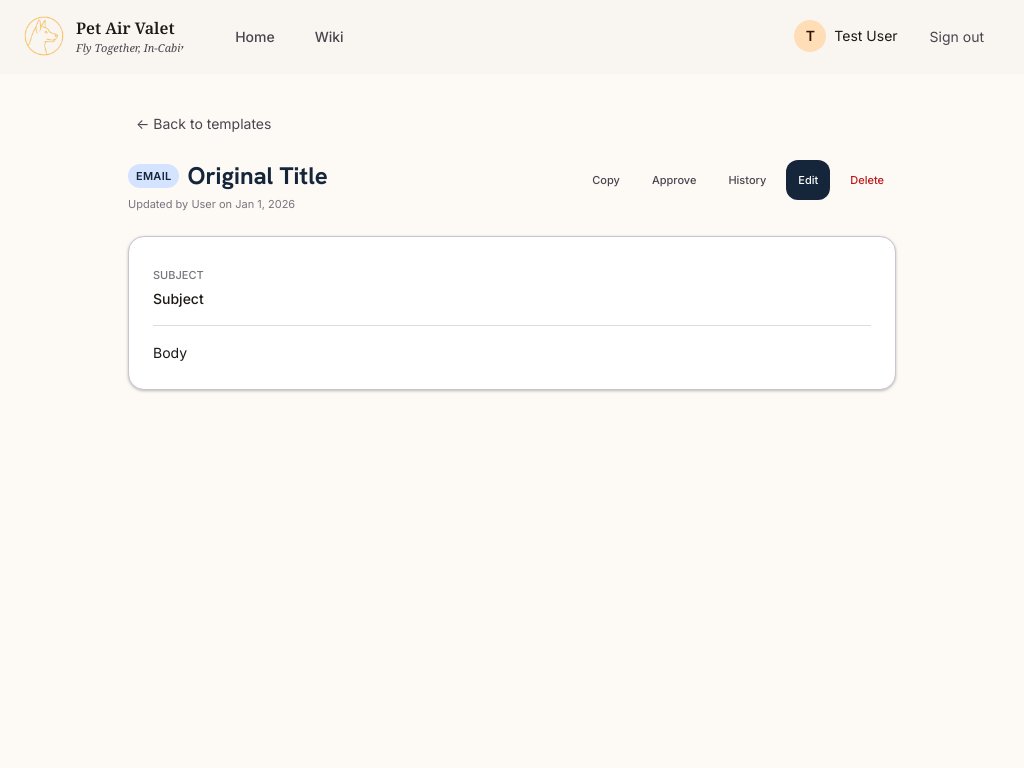
Scenario: TemplateEditPage › cancels edit mode and restores original template values
Click the button "Edit" at (808, 180), box [786, 160, 830, 200]
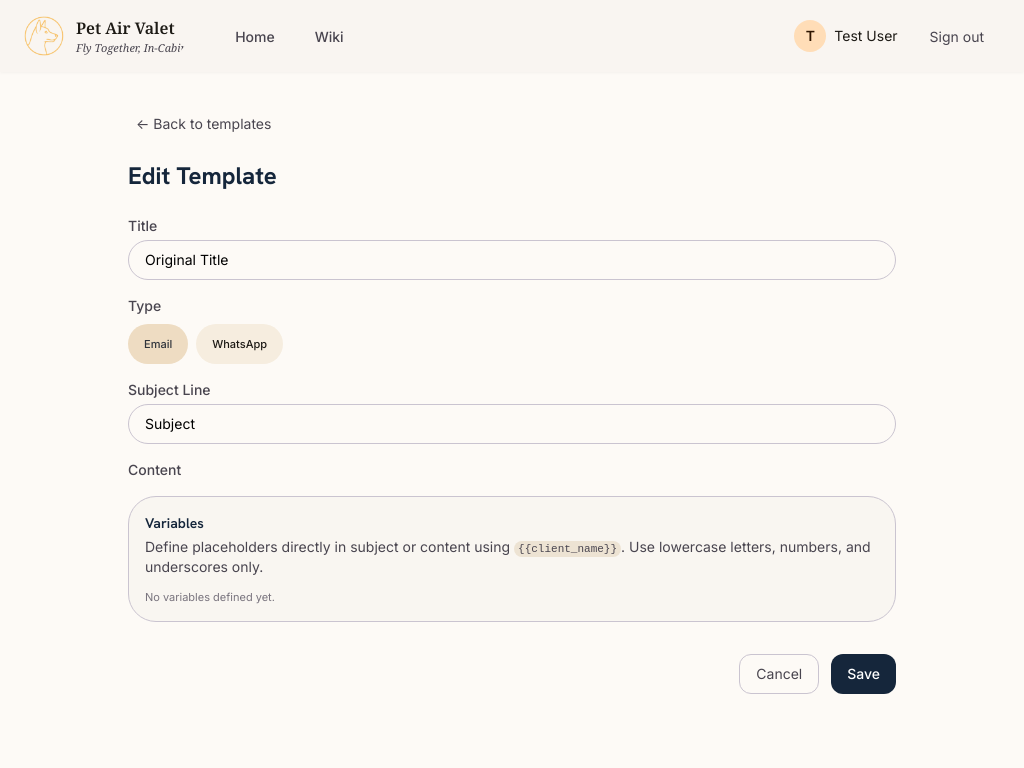
Replace the text in the field labelled "Title" with "Temporary Title" at (512, 260), box [128, 240, 896, 280]
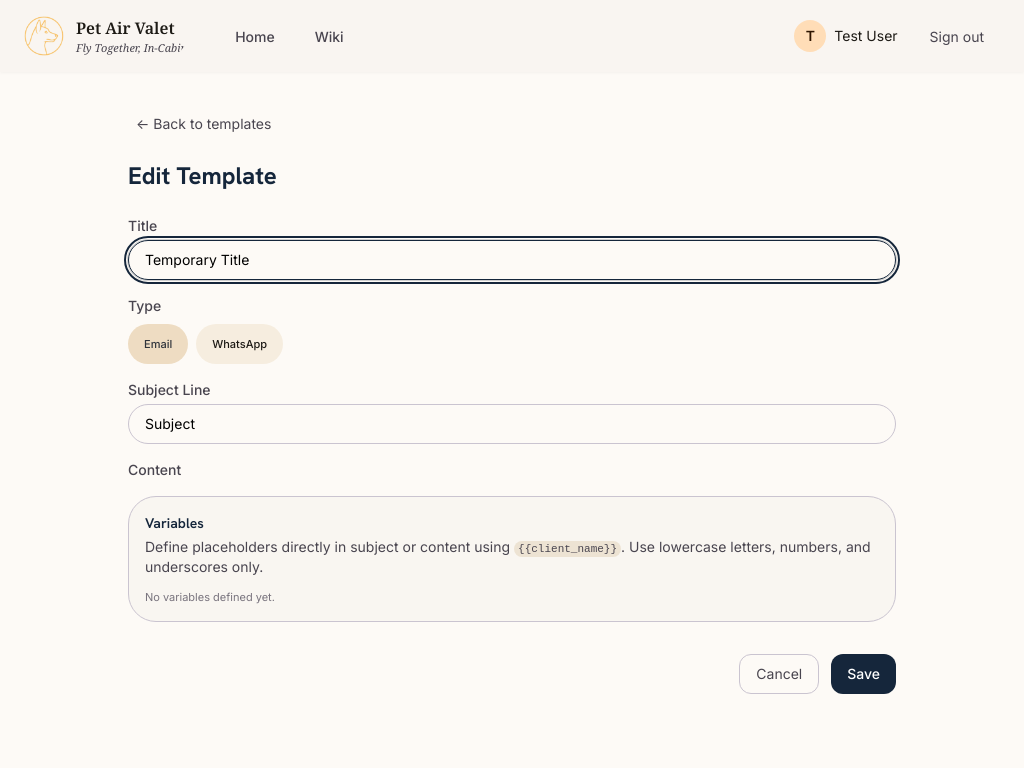
Click the button "Cancel" at (779, 674), box [739, 654, 819, 694]
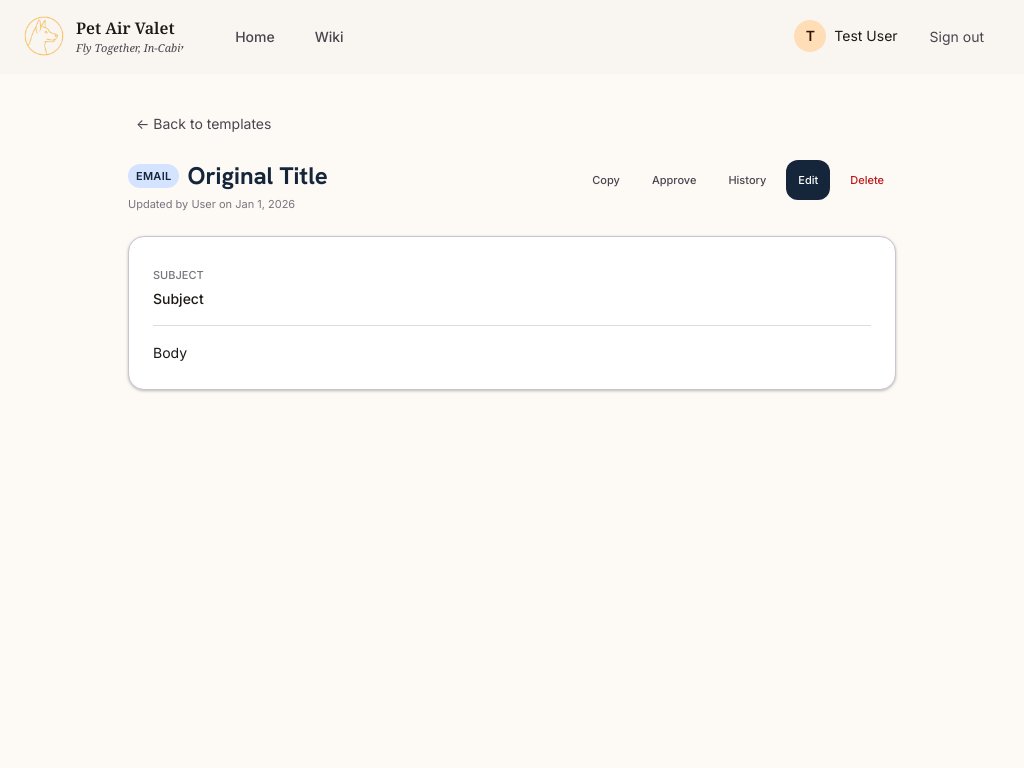
expect the heading "Original Title" is shown: met, box [188, 160, 328, 192]
